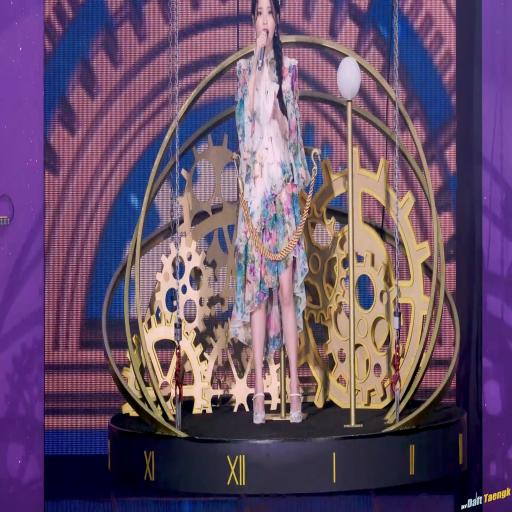IU: (251, 2, 281, 48)
